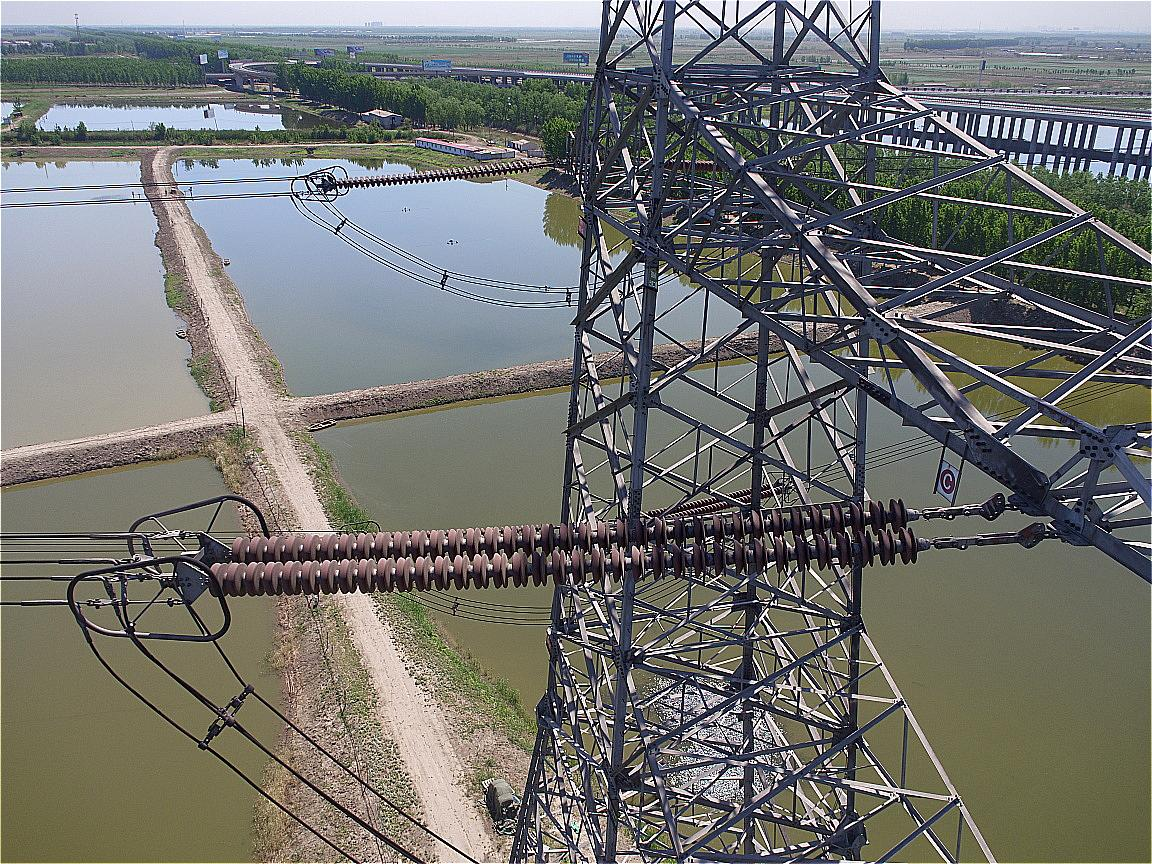insultor1: (335, 158, 539, 191)
insultor2: (209, 497, 919, 597)
